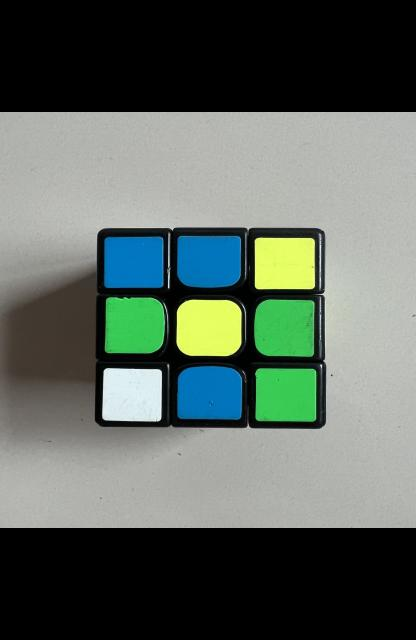Blue: (177, 366, 242, 420), (177, 236, 240, 288), (103, 237, 163, 289)
Green: (253, 299, 314, 357), (104, 297, 164, 354), (254, 369, 316, 422)
White: (100, 369, 160, 422)
Yellow: (176, 299, 240, 356), (253, 238, 314, 290)
